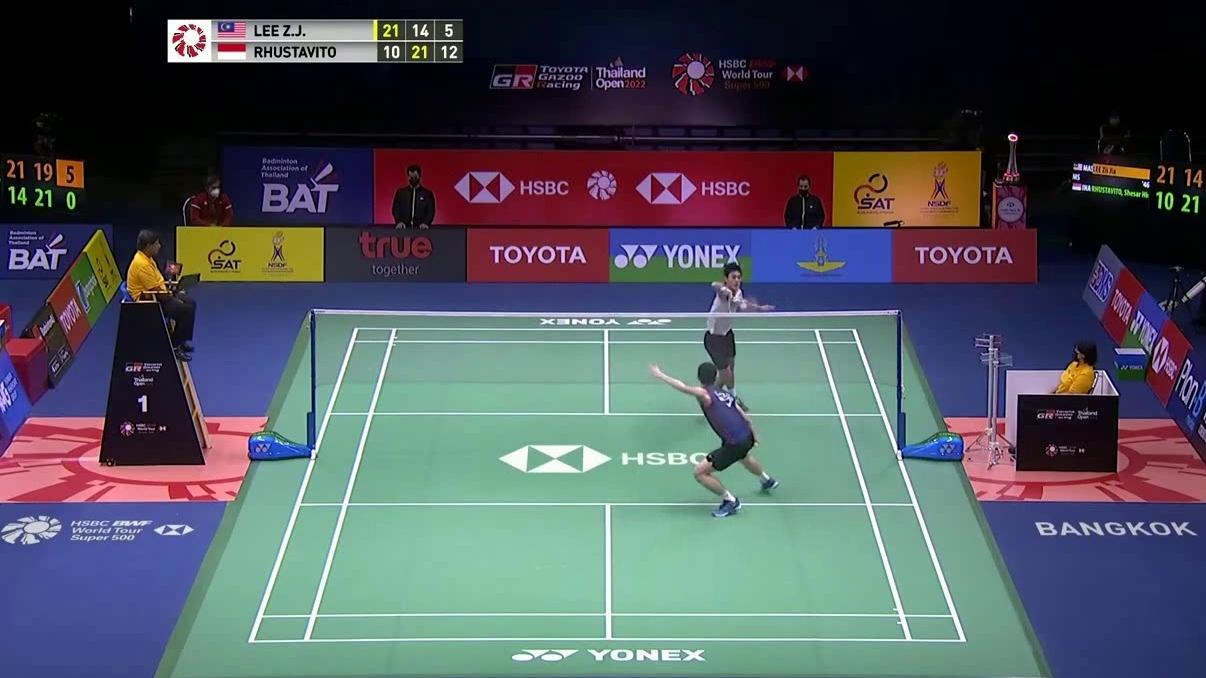racket: (724, 292, 761, 318), (753, 433, 762, 451)
shuttle: (740, 300, 749, 310)
